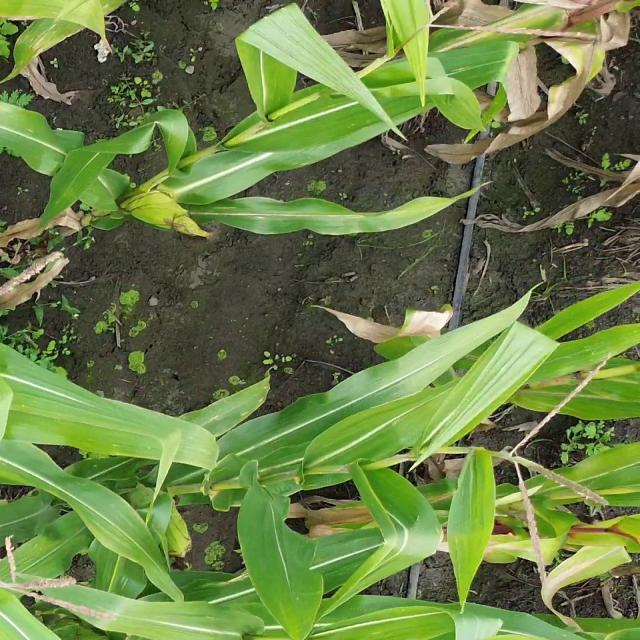northern-leaf-blight: (494, 536, 615, 640)
southern-leaf-blight: (166, 384, 276, 458), (270, 106, 382, 177), (528, 315, 629, 393)
